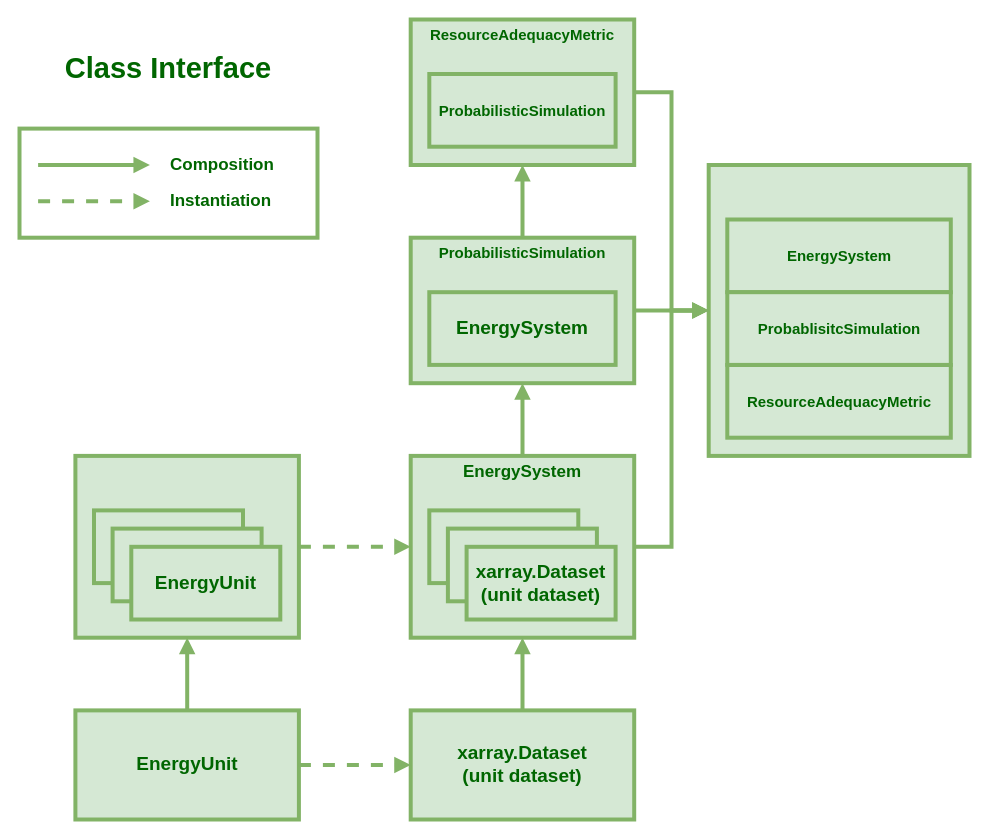
Image size: 988x838. Some labels were removed from this diagram. The box of each missing label's shape, as (x1, y1, x2, y2) in pixels:
EnergySystemBuilder: (73, 453, 300, 639)
ResourceContributionMetric: (706, 162, 971, 457)
